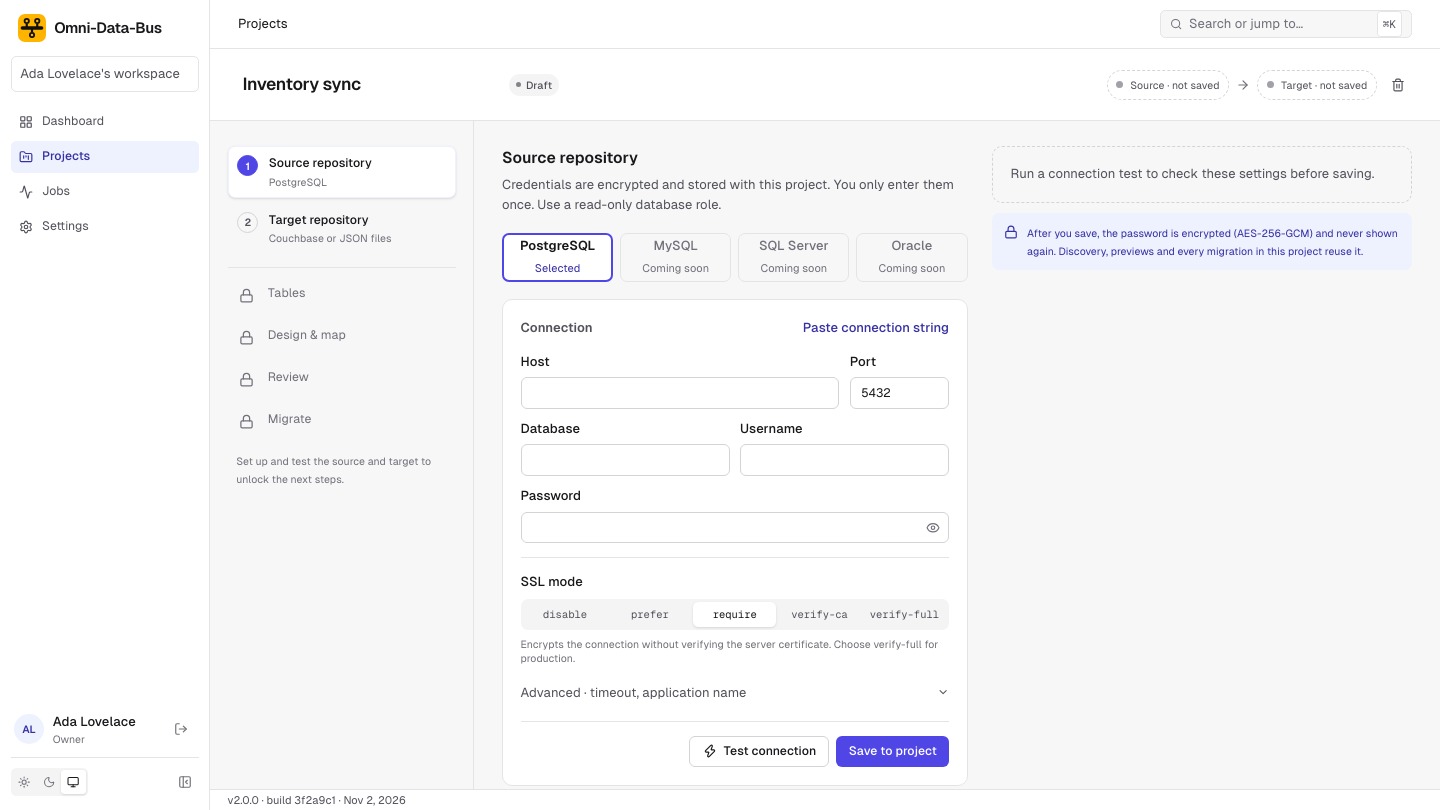
Test: Source step › AC6: test button posts unsaved config and persists nothing
Type "db.example.com" into the field labelled "Host".
click(680, 393); type("db.example.com")  # box [520, 377, 839, 408]
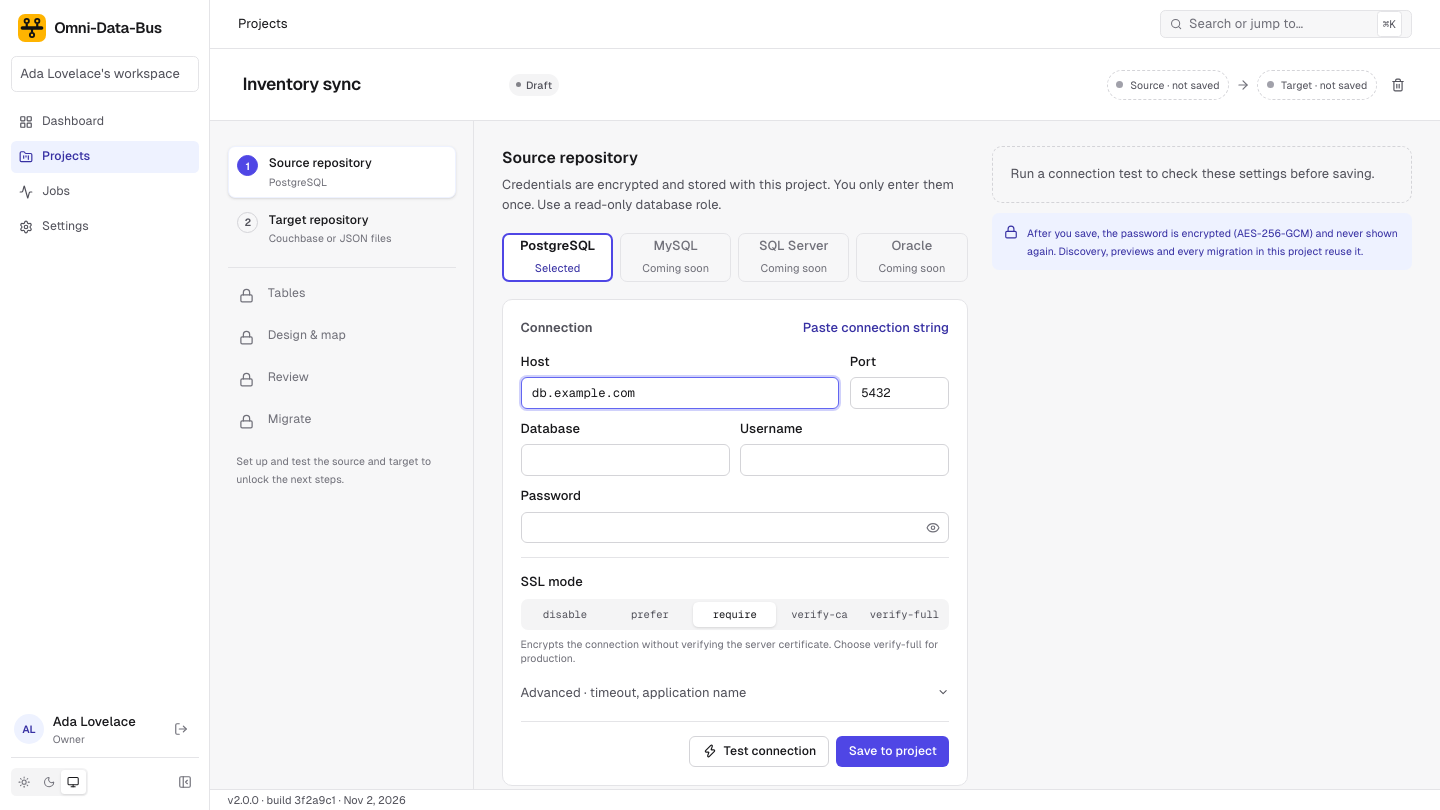
Type "shop" into the field labelled "Database".
click(625, 460); type("shop")  # box [520, 444, 730, 476]
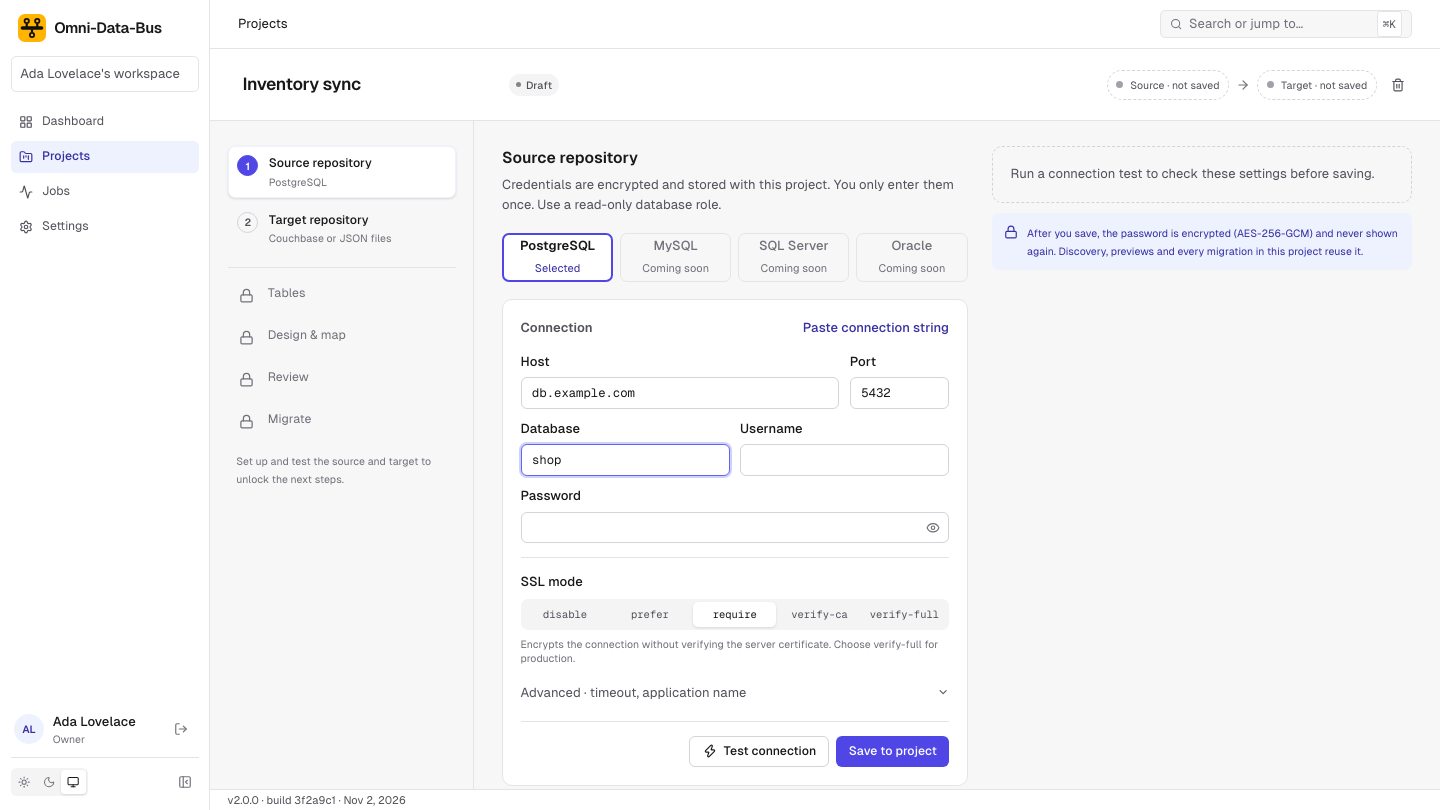
Type "omni_ro" into the field labelled "Username".
click(844, 460); type("omni_ro")  # box [740, 444, 949, 476]
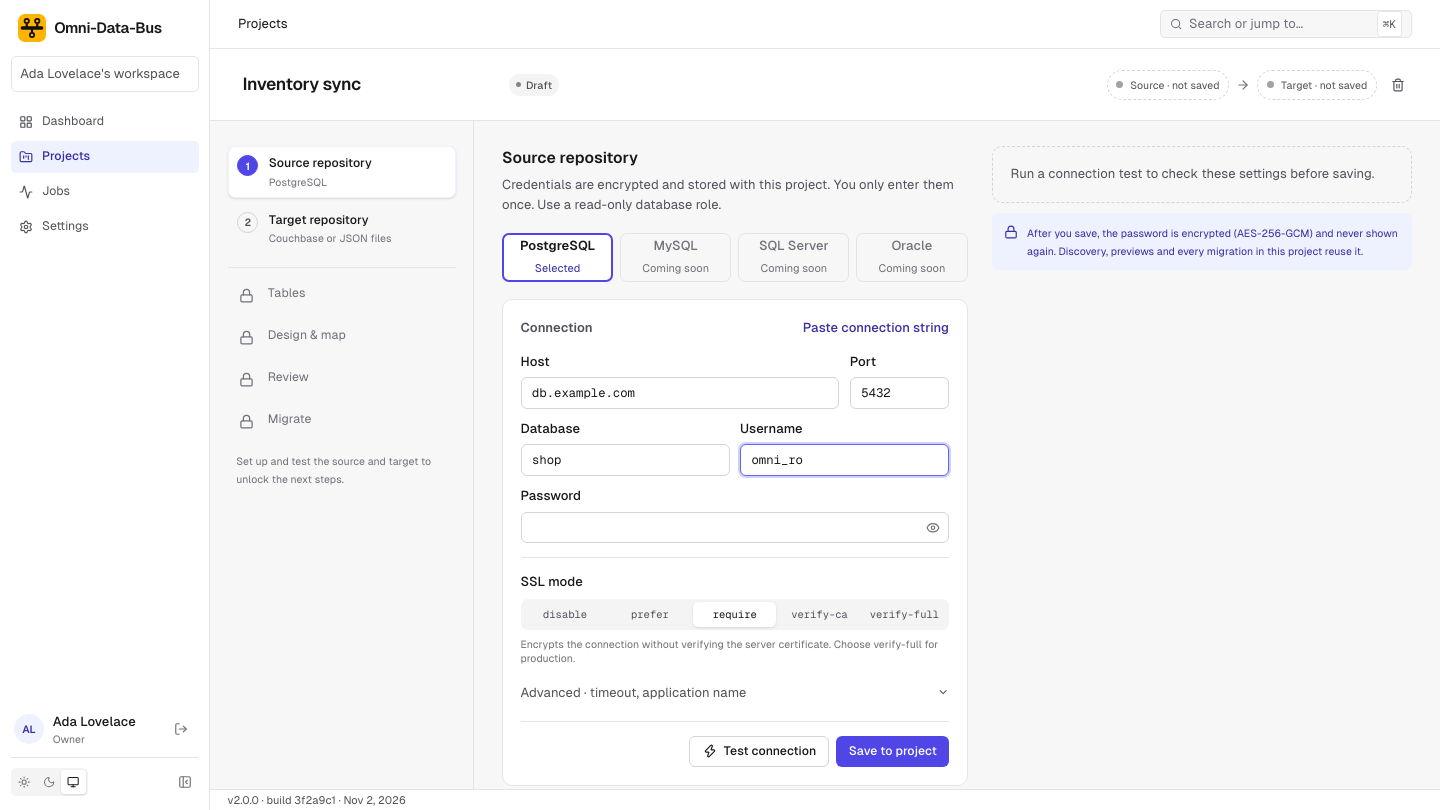
Type "typed-password" into the password field labelled "Password".
click(735, 527); type("typed-password")  # box [520, 512, 949, 543]
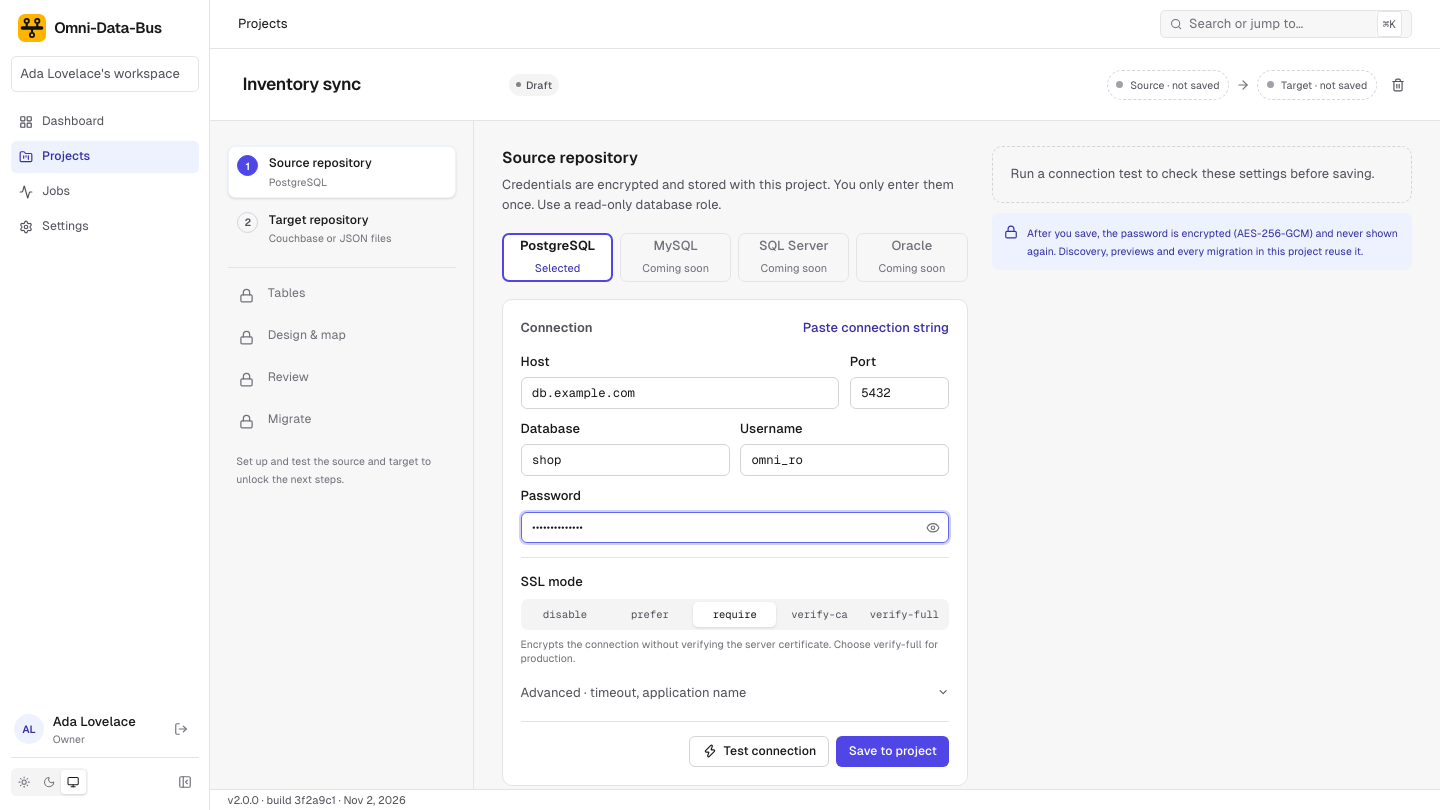
Click the button "Test connection".
click(759, 751)  # box [689, 736, 829, 767]
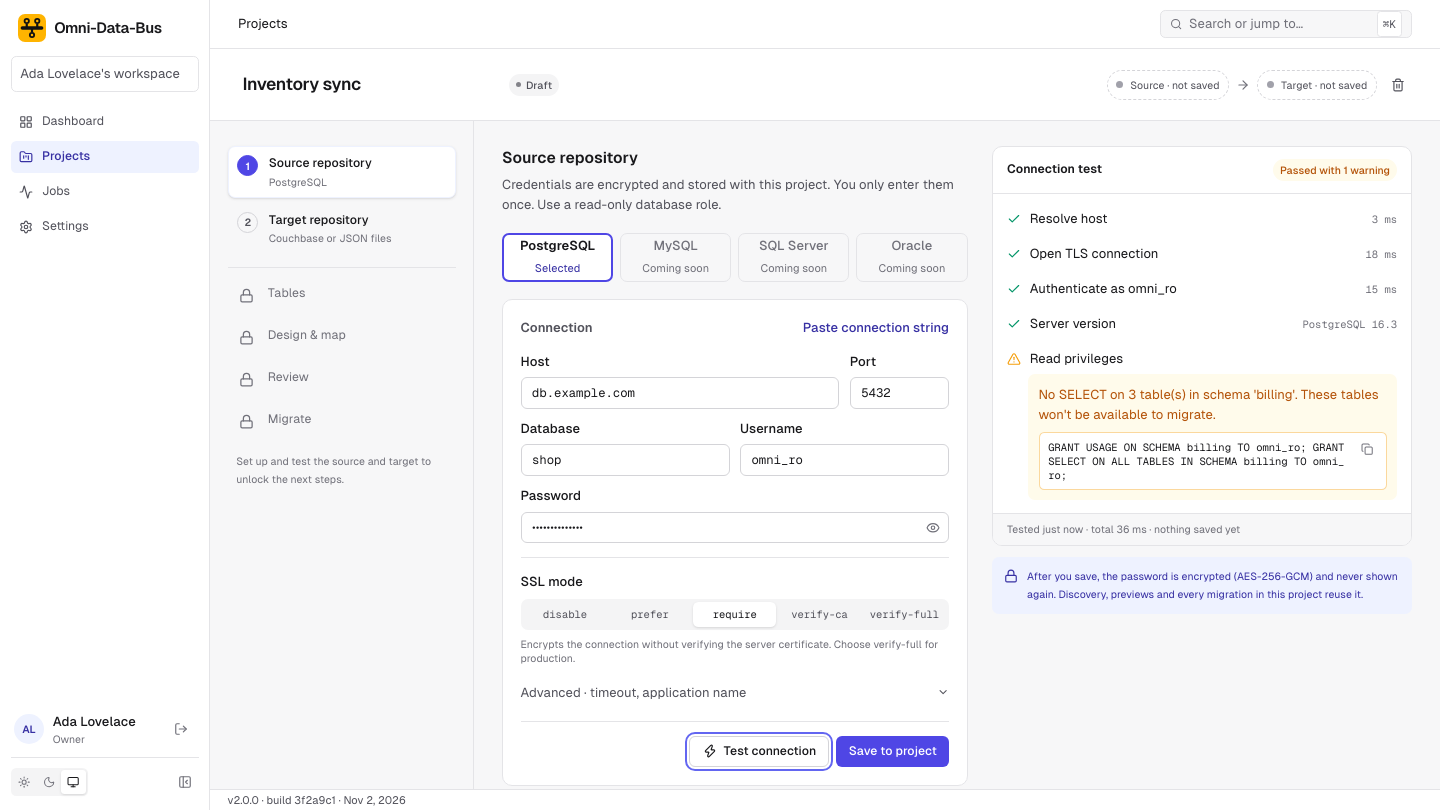
Now the text "Passed with 1 warning" is shown, box [1273, 159, 1397, 181]
Now the text "Tested just now · total 36 ms · nothing saved yet" is shown, box [993, 512, 1411, 545]
